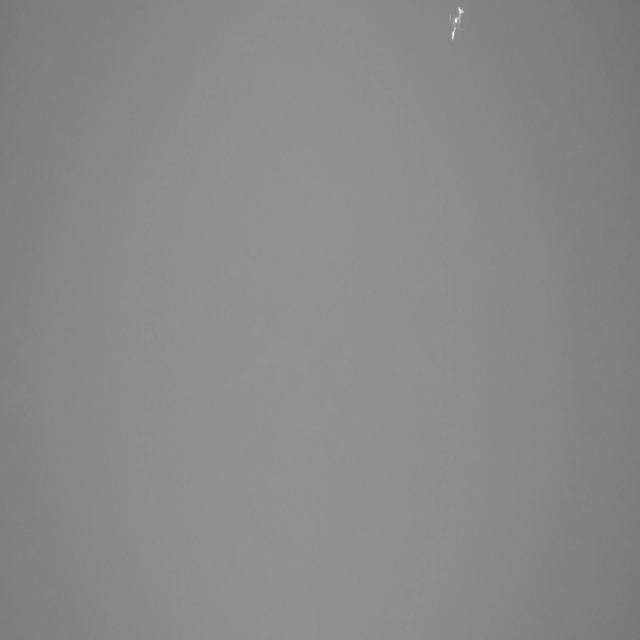aeroplane: (448, 5, 466, 47)
